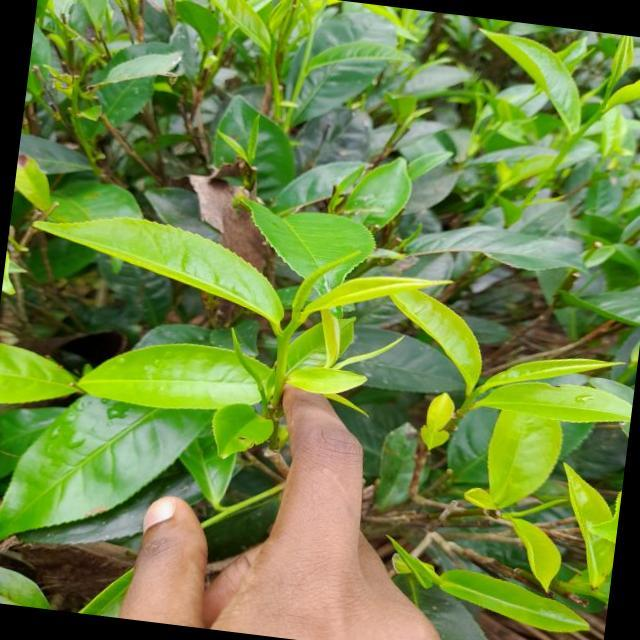Stem: (278, 334, 288, 349)
